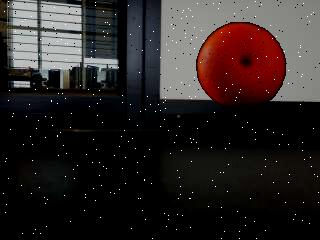Orange: (196, 22, 286, 110)
